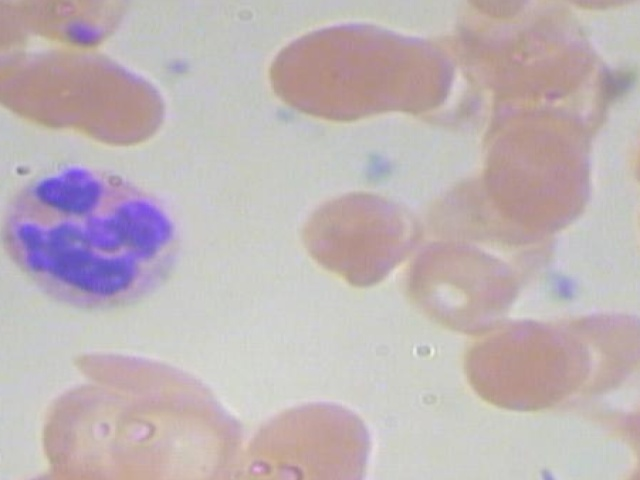Platelets: (60, 13, 107, 58), (352, 150, 404, 186), (543, 269, 592, 306)
RBC: (261, 14, 411, 127), (104, 379, 250, 480), (397, 233, 531, 338), (471, 125, 605, 230), (291, 184, 418, 294), (226, 394, 379, 480), (461, 310, 584, 411), (64, 51, 178, 149)
WBC: (0, 157, 211, 324)
